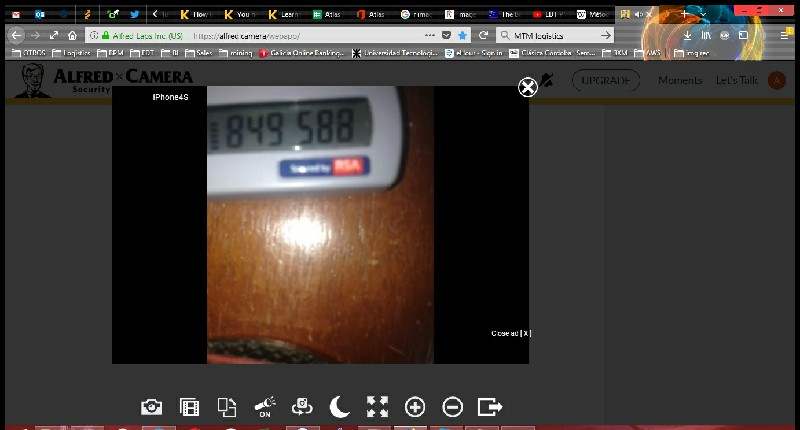display: (206, 105, 368, 151)
